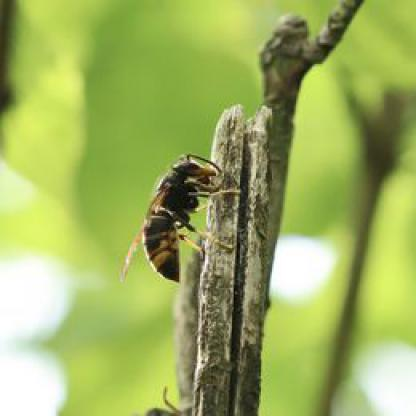Asian Hornet: (123, 148, 236, 286)
